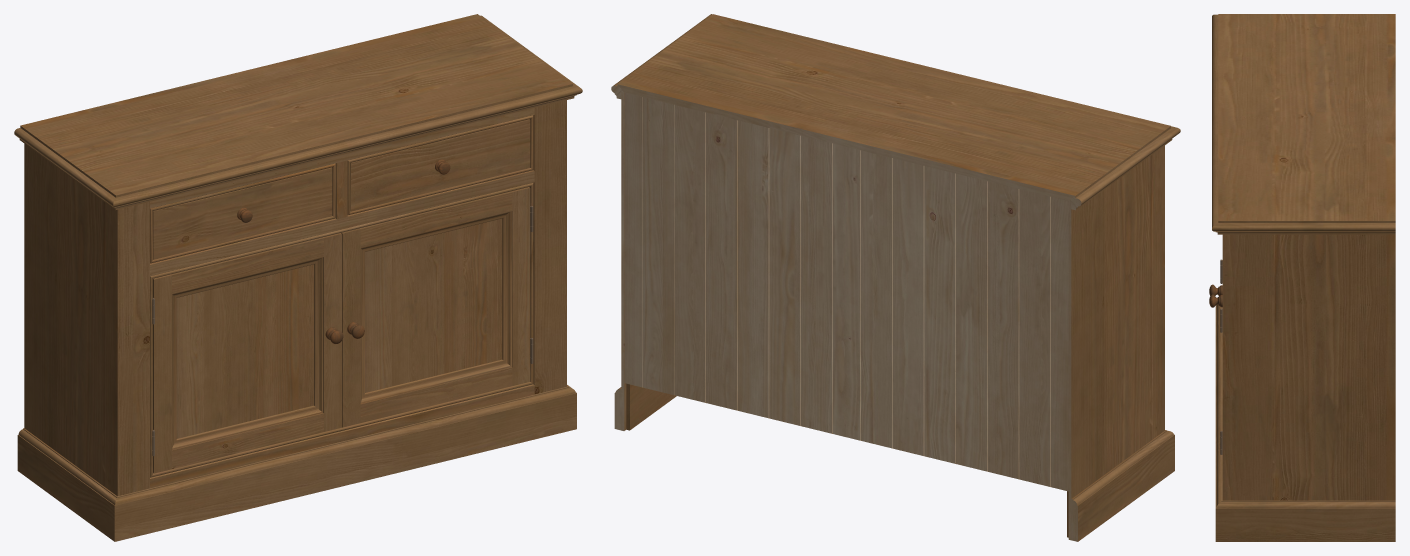
3 views of the same model, side by side, from view 1: azimuth 30°, elevation 25°; view 2: azimuth 150°, elevation 25°; view 3: azimuth 270°, elevation 25° (orthographic). The views are drawn at different scales.
Parts seen in each view (by area): view 1: Object_4, Object_5; view 2: Object_2, Object_4; view 3: Object_4, Object_5.
Part boxes in pixels (x1,y1,x2,y2): Object_4: [14, 14, 582, 541]; Object_5: [237, 159, 450, 344]; Object_2: [611, 84, 1081, 541]; Object_4: [613, 14, 1180, 541]; Object_4: [1212, 14, 1395, 541]; Object_5: [1209, 284, 1222, 307].
Size of the model in its own units: 131 by 91.8 by 48.5.
Materials: 4 (3 with a texture image).
